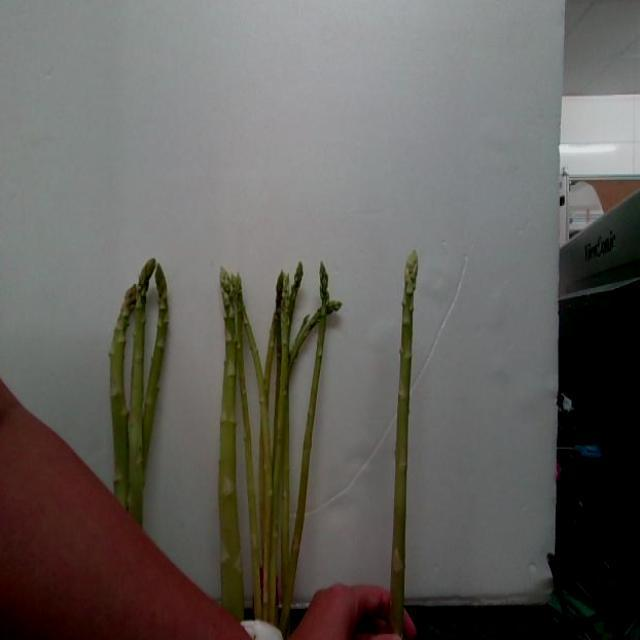aspargus: (391, 252, 421, 640)
